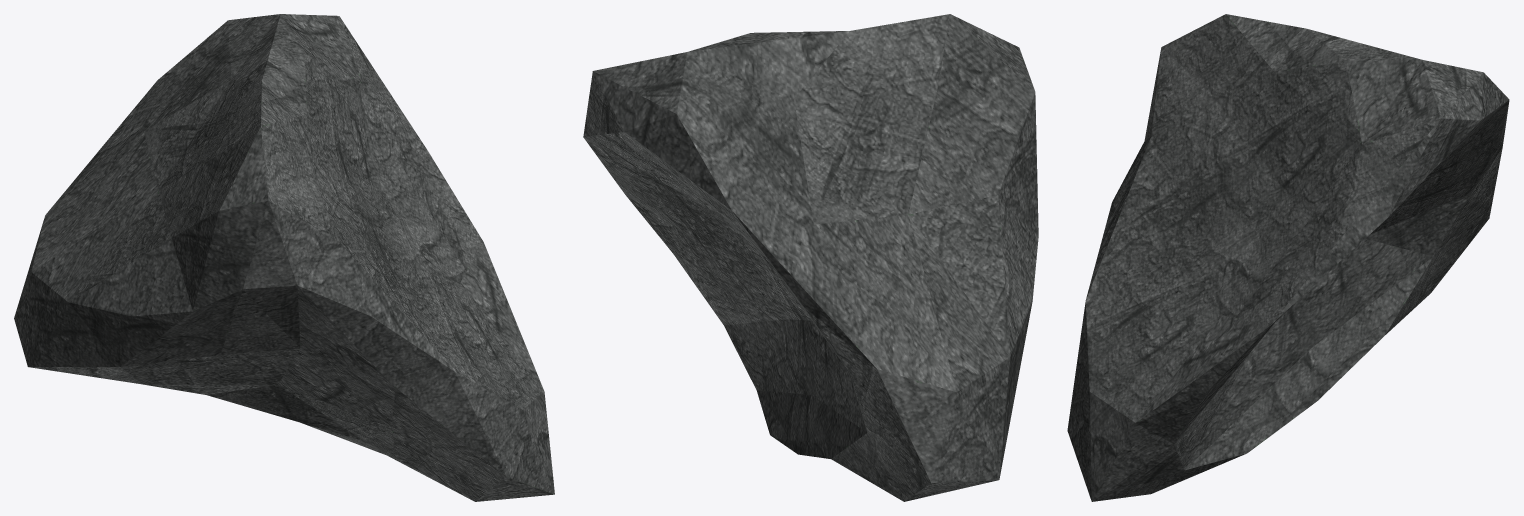
Rendered from rock2.FBX.
The picture shows the model from 3 angles, left to right: view 1: azimuth 30°, elevation 25°; view 2: azimuth 150°, elevation 25°; view 3: azimuth 270°, elevation 25°; orthographic projection. The views are drawn at different scales.
Parts seen in each view (by area): view 1: GeoSphere001; view 2: GeoSphere001; view 3: GeoSphere001.
Part boxes in pixels (x1,y1,x2,y2): GeoSphere001: (14, 14, 554, 501); GeoSphere001: (583, 14, 1038, 501); GeoSphere001: (1067, 14, 1509, 501).
Bounding box in the file's own units: 116 × 117 × 116.
1 material, 1 textured.
